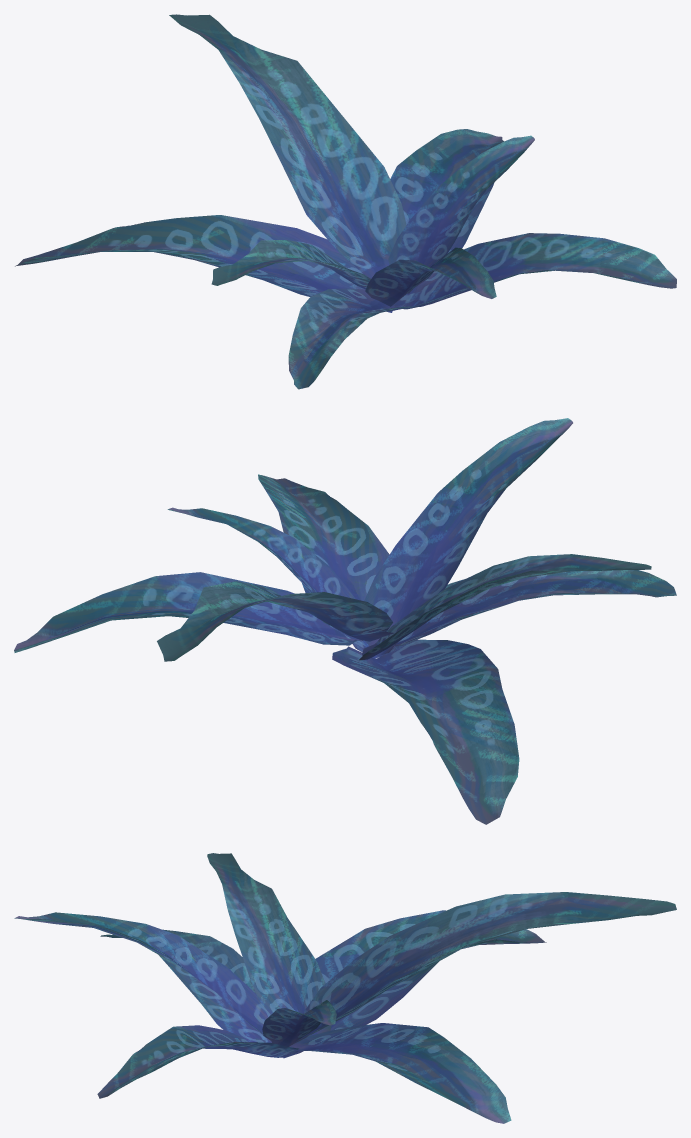
Rendered from touffe_bleu.fbx.
3 renders of one model, top to bottom at view 1: azimuth 30°, elevation 25°; view 2: azimuth 150°, elevation 25°; view 3: azimuth 270°, elevation 25°, orthographic. The views are drawn at different scales.
Visible parts, largest first — view 1: Plane.042, Plane.041, Plane.045, Plane.048, Plane.044, Plane.043, Plane.047, Plane.046; view 2: Plane.041, Plane.047, Plane.043, Plane.045, Plane.042, Plane.044, Plane.046, Plane.048; view 3: Plane.042, Plane.046, Plane.043, Plane.047, Plane.041, Plane.045, Plane.044, Plane.048.
Boxes of the visible parts, x1,y1,x2,y2 form: Plane.042: (169, 14, 406, 278); Plane.041: (15, 215, 392, 312); Plane.045: (388, 233, 676, 311); Plane.048: (388, 135, 534, 293); Plane.044: (288, 288, 425, 389); Plane.043: (390, 129, 503, 294); Plane.047: (365, 247, 496, 306); Plane.046: (211, 240, 370, 289); Plane.041: (332, 639, 519, 824); Plane.047: (364, 418, 572, 656); Plane.043: (14, 572, 363, 652); Plane.045: (258, 474, 395, 658); Plane.042: (157, 581, 394, 661); Plane.044: (391, 570, 676, 646); Plane.046: (359, 554, 651, 660); Plane.048: (167, 507, 355, 598); Plane.042: (288, 892, 676, 1046); Plane.046: (207, 853, 331, 1035); Plane.043: (277, 1023, 511, 1123); Plane.047: (14, 912, 271, 1041); Plane.041: (283, 910, 546, 1058); Plane.045: (97, 1025, 298, 1098); Plane.044: (100, 929, 271, 1042); Plane.048: (262, 1000, 336, 1046).
Bounding box in the file's own units: 224 × 74.07 × 288.
1 material, 1 textured.
